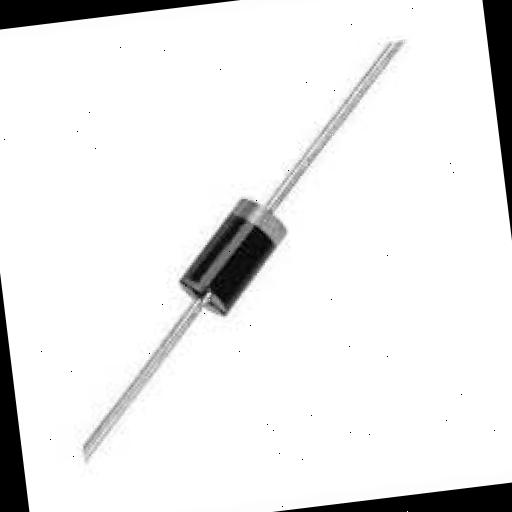DIODE: (34, 35, 451, 462)
